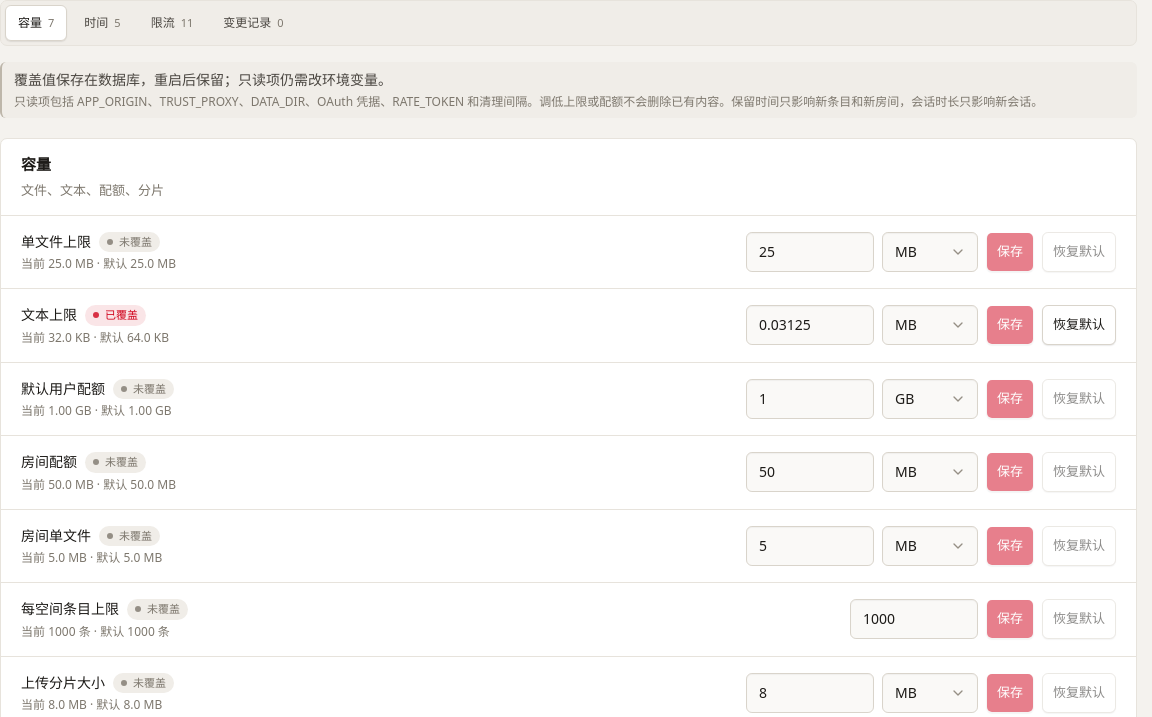
Scenario: LimitsEditor › restores one limit to its default
Expected: the text "已覆盖" is shown, [85,305,146,326]
Step 1. Click the button "恢复默认" in the row of "64.0 KB" → x=1079, y=325, box [1042,305,1116,345]
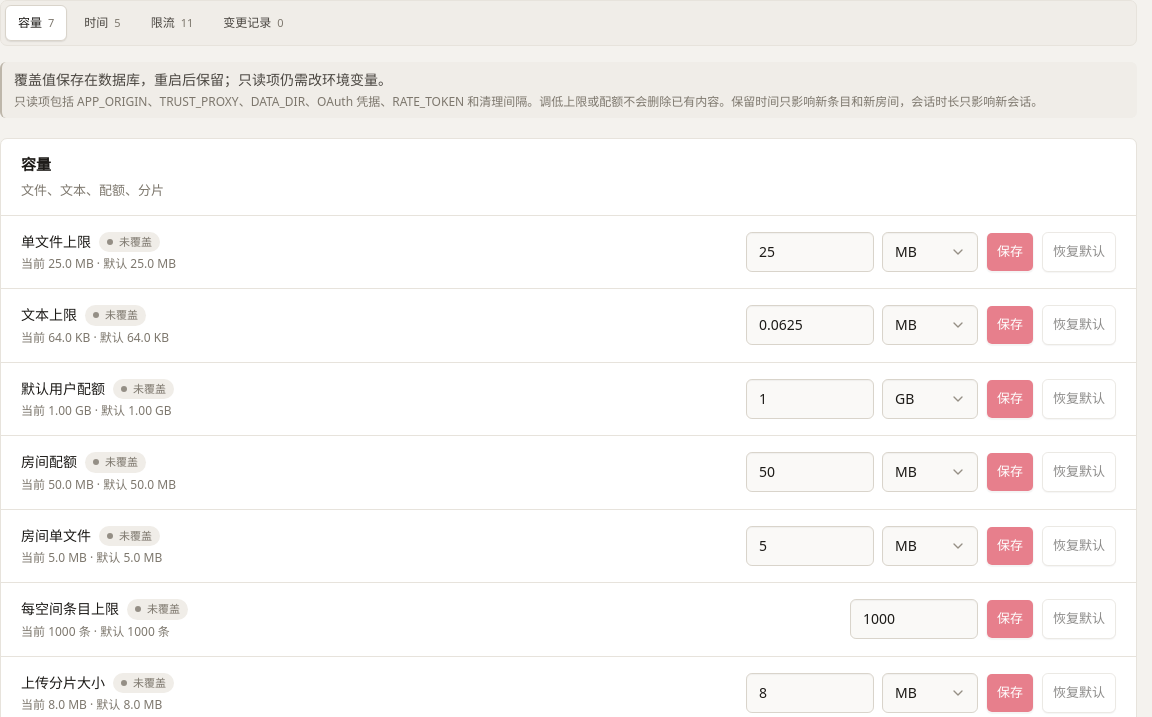
Result: the text "未覆盖" is shown at [85,305,146,326]
Result: the text "当前 64.0 KB" is shown at [21,329,90,346]
Result: the button "恢复默认" in the row of "文本上限" is disabled at [1042,305,1116,345]
